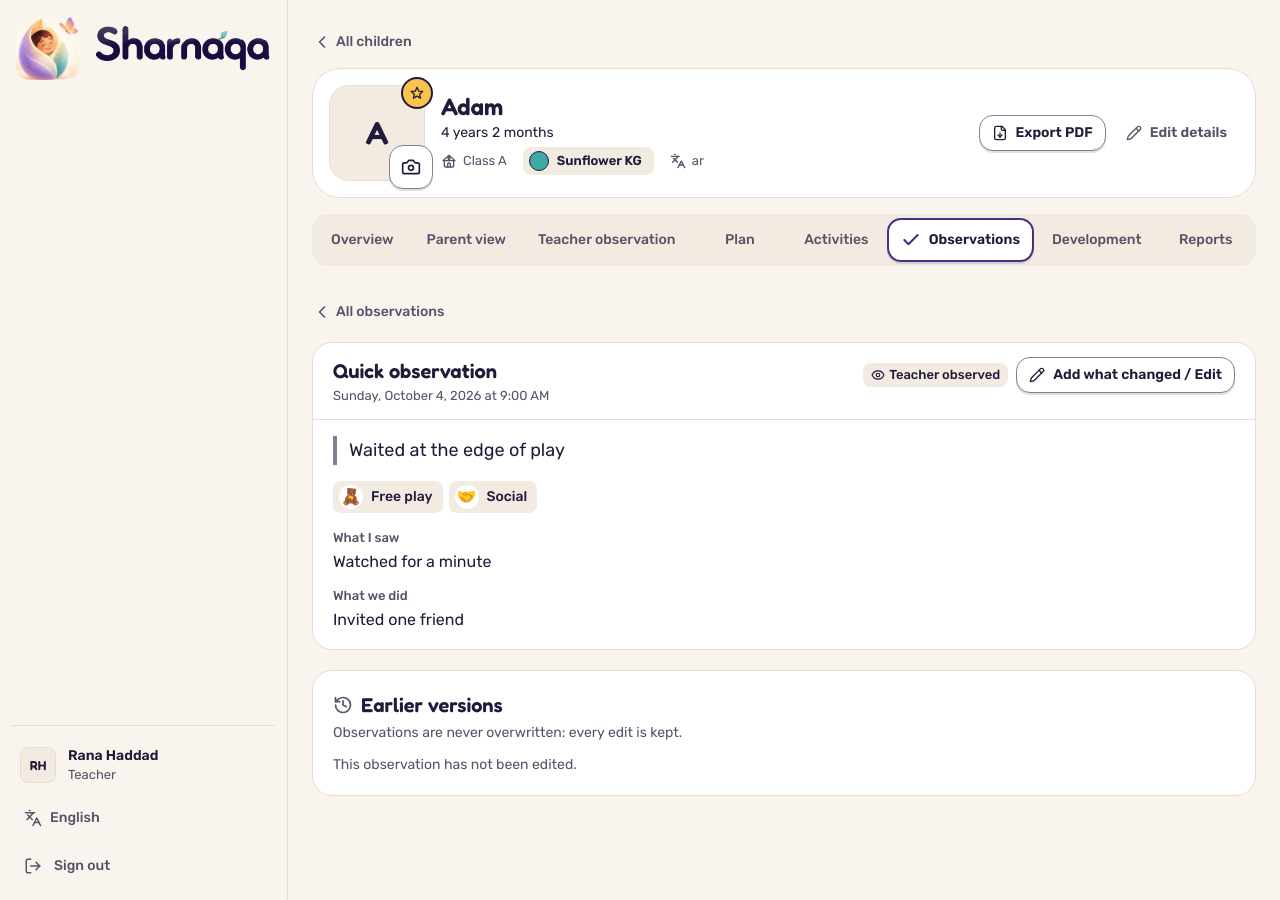
Observation detail › adds what changed later: the form opens filled in, saves with PUT and a second version appears
Click the button "Add what changed / Edit": (1126, 375) [1016, 357, 1235, 393]
(page scrolled)
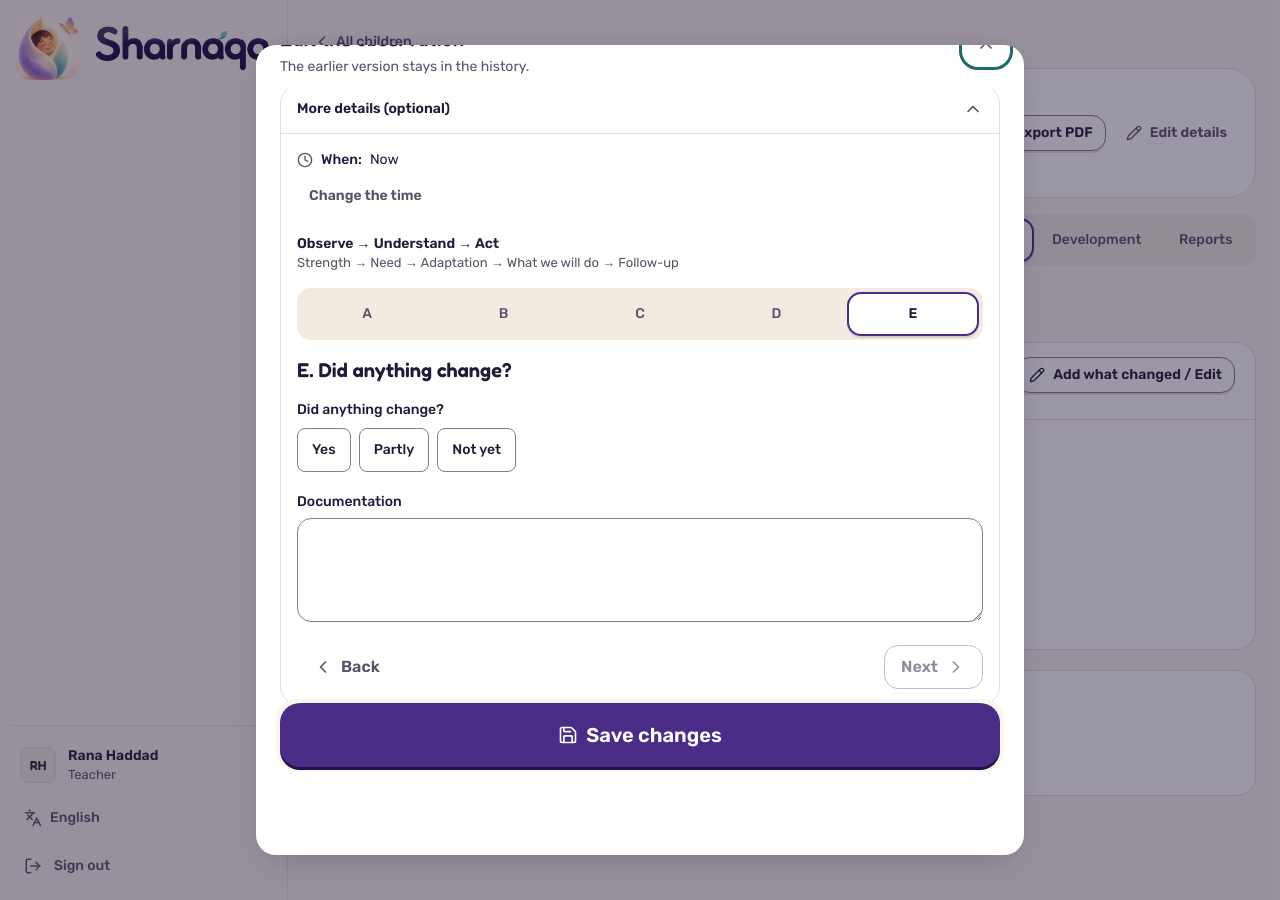
Note: Stage D is filled in, so the stepper opens on stage E.
Click the radio button labelled "Yes": (324, 450) [297, 428, 351, 472]
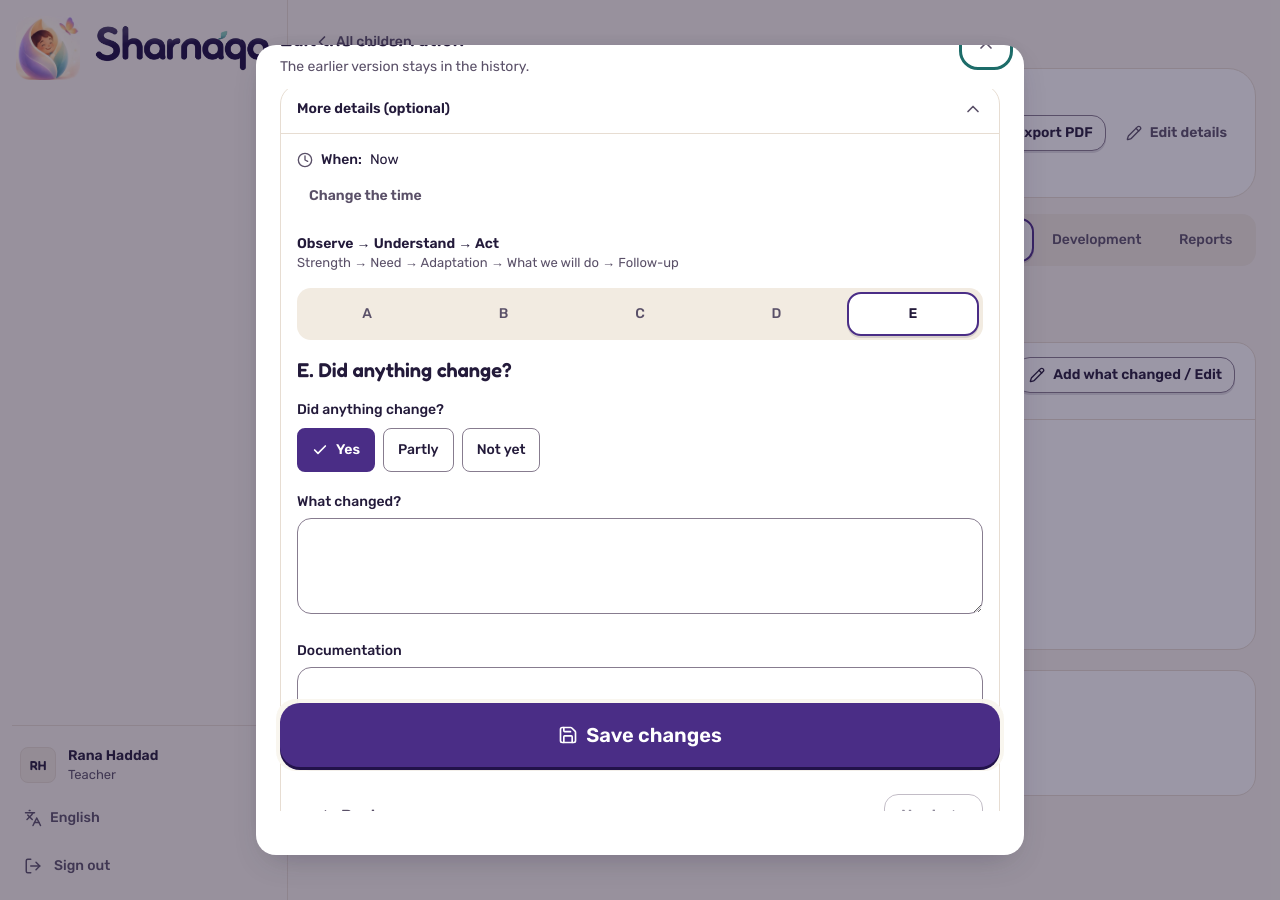
In the text box labelled "What changed?": (640, 566) [297, 518, 983, 614], type "Joined after one minute"
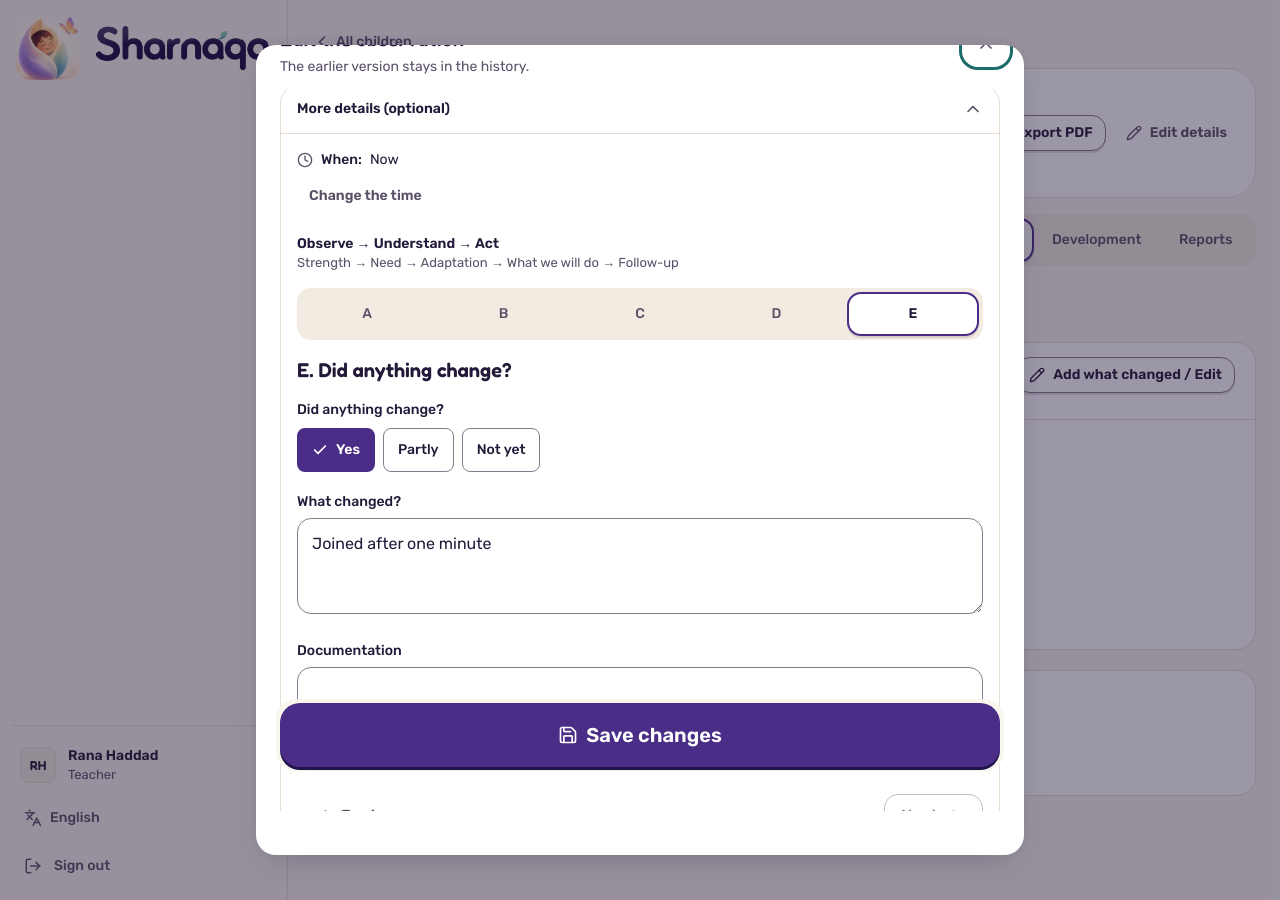
Click the button "Save changes": (640, 735) [280, 703, 1000, 767]
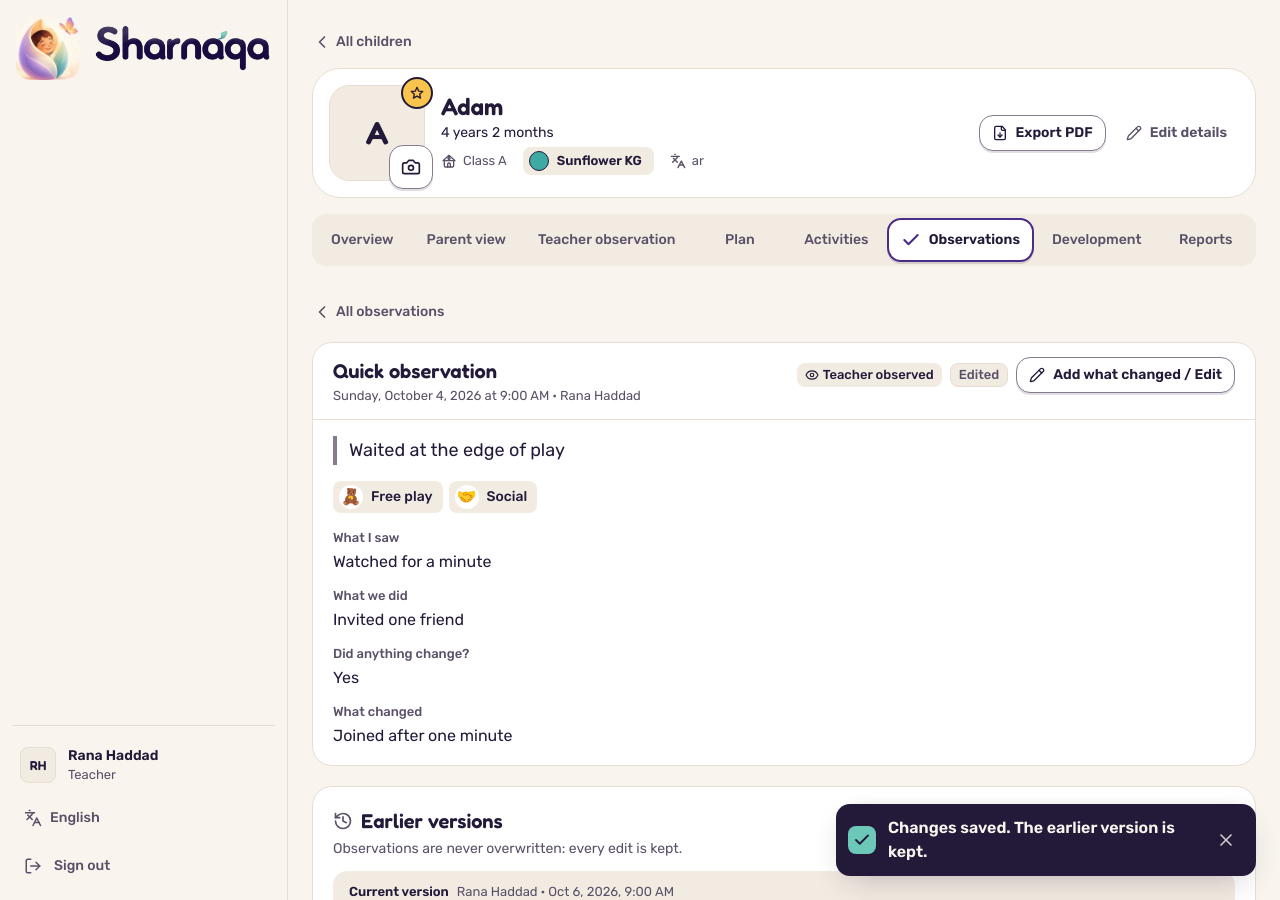
Expected: the text "Waited at the edge of play" is shown, [333, 436, 1235, 465]
Now the number of list items with test id "observation-version" is 2
